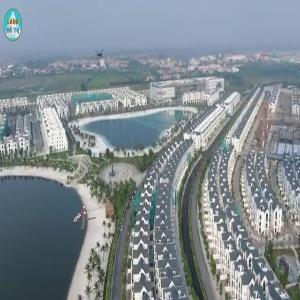drone: (80, 36, 119, 75)
